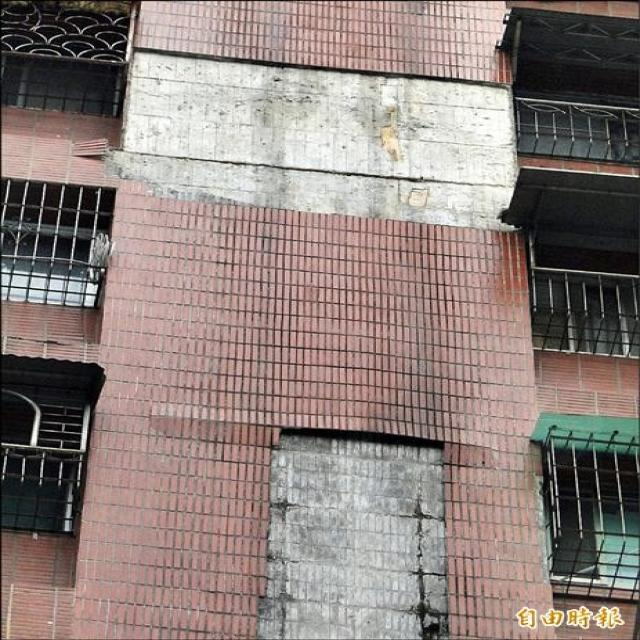tile: (105, 52, 519, 232), (256, 424, 453, 640)
